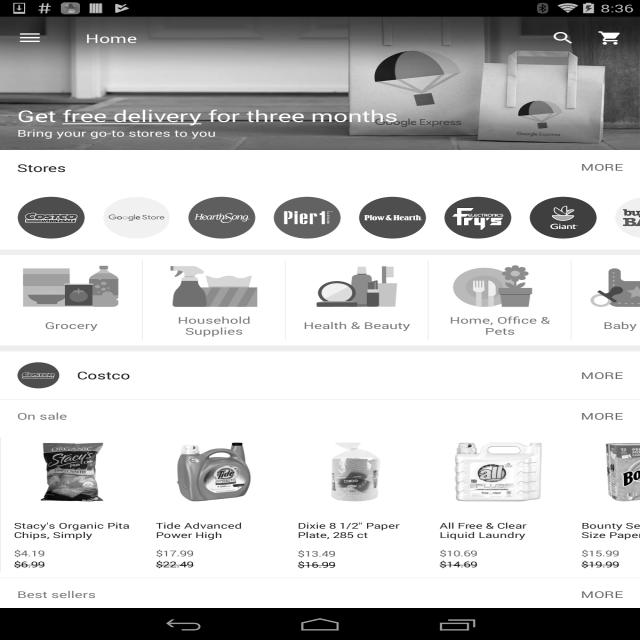ImageButton: (0, 17, 60, 59)
ImageView: (0, 17, 640, 150), (135, 260, 293, 314), (278, 260, 436, 314), (421, 260, 578, 314), (0, 260, 150, 314), (25, 443, 119, 501), (167, 443, 261, 501), (308, 443, 402, 501), (450, 443, 544, 501), (563, 260, 640, 313), (8, 196, 94, 239), (179, 196, 265, 239), (264, 196, 350, 239), (435, 196, 521, 239), (520, 196, 606, 239), (94, 196, 179, 239), (350, 196, 435, 239), (592, 442, 640, 501), (606, 196, 640, 239), (17, 362, 60, 389), (597, 30, 623, 46)
TextView: (17, 105, 398, 127), (77, 368, 581, 382), (1, 520, 143, 540), (143, 520, 285, 540), (284, 520, 426, 540), (426, 520, 568, 540), (17, 314, 125, 337), (160, 314, 268, 337), (303, 314, 411, 337), (446, 314, 553, 337), (17, 127, 216, 139), (564, 400, 623, 432), (564, 578, 623, 610), (538, 22, 588, 54), (568, 520, 640, 540), (0, 588, 96, 601), (589, 314, 640, 337), (85, 30, 137, 46), (0, 410, 67, 422), (143, 558, 206, 570), (427, 558, 490, 570), (569, 558, 632, 570), (17, 161, 67, 175), (285, 548, 348, 559), (285, 559, 348, 570), (1, 558, 58, 570), (143, 548, 206, 558), (427, 548, 490, 558), (569, 548, 632, 558), (581, 161, 623, 175), (1, 548, 58, 558), (581, 369, 623, 382), (600, 22, 630, 33)
